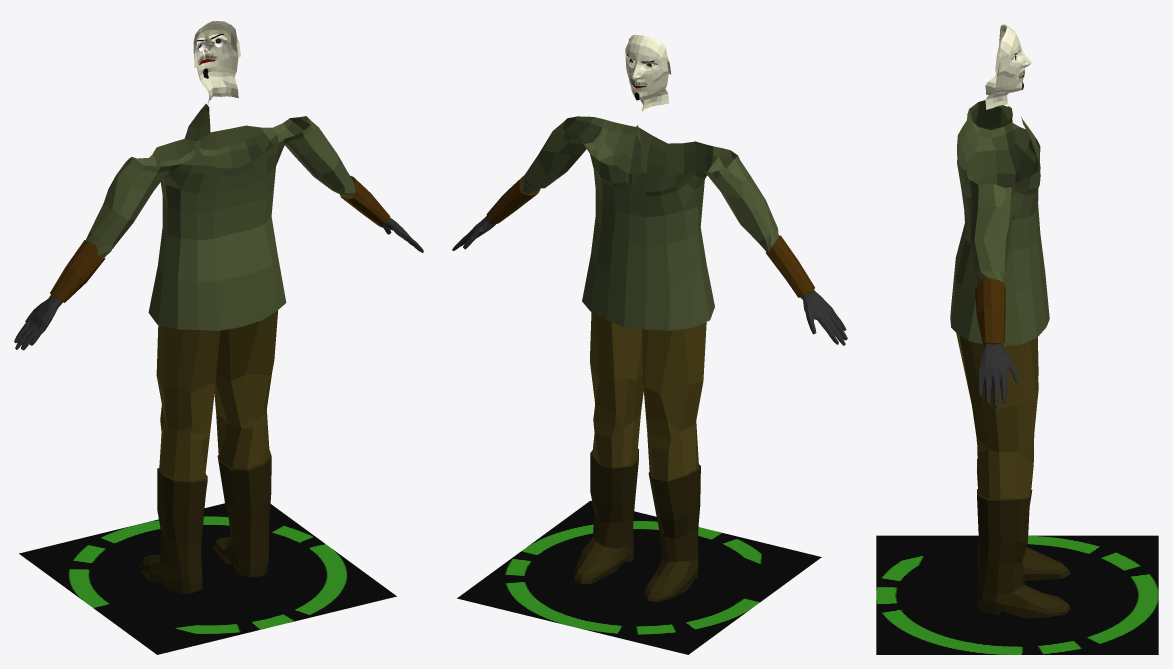
File: MilitiaBase.fbx
3 renders of one model, left to right at view 1: azimuth 30°, elevation 25°; view 2: azimuth 150°, elevation 25°; view 3: azimuth 270°, elevation 25°, orthographic. The views are drawn at different scales.
Parts seen in each view (by area): view 1: Plane.001, SelectionCircle; view 2: Plane.001, SelectionCircle; view 3: Plane.001, SelectionCircle.
Boxes of the visible parts, box(x1,y1,x2,y2) form: Plane.001: box(14, 21, 423, 593); SelectionCircle: box(19, 503, 396, 654); Plane.001: box(452, 34, 847, 602); SelectionCircle: box(457, 500, 821, 654); Plane.001: box(950, 24, 1070, 618); SelectionCircle: box(876, 535, 1158, 654).
Size of the model in its own units: 4.35 by 5.83 by 2.57.
3 materials, 3 textured.
